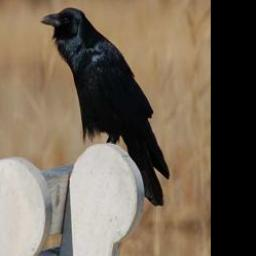Crow: (40, 7, 171, 208)
